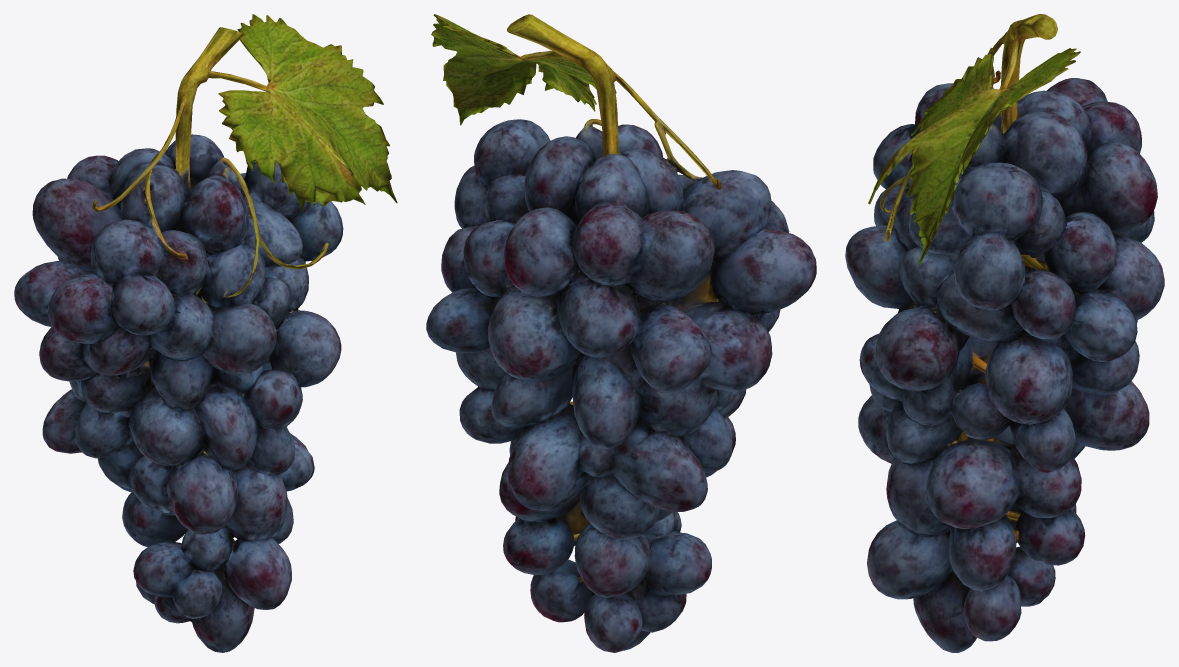
The model's file is grapevyne-meshy-grapes.desktop.glb.
The picture shows the model from 3 angles, left to right: view 1: azimuth 30°, elevation 25°; view 2: azimuth 150°, elevation 25°; view 3: azimuth 270°, elevation 25°; orthographic projection. The views are drawn at different scales.
Parts seen in each view (by area): view 1: Mesh_0; view 2: Mesh_0; view 3: Mesh_0.
Boxes of the visible parts, x1=… form: Mesh_0: x1=14, y1=14, x2=397, y2=652; Mesh_0: x1=426, y1=14, x2=816, y2=652; Mesh_0: x1=845, y1=14, x2=1164, y2=652.
Size of the model in its own units: 1.14 by 1.9 by 0.8342.
Materials: 1 (1 with a texture image).
